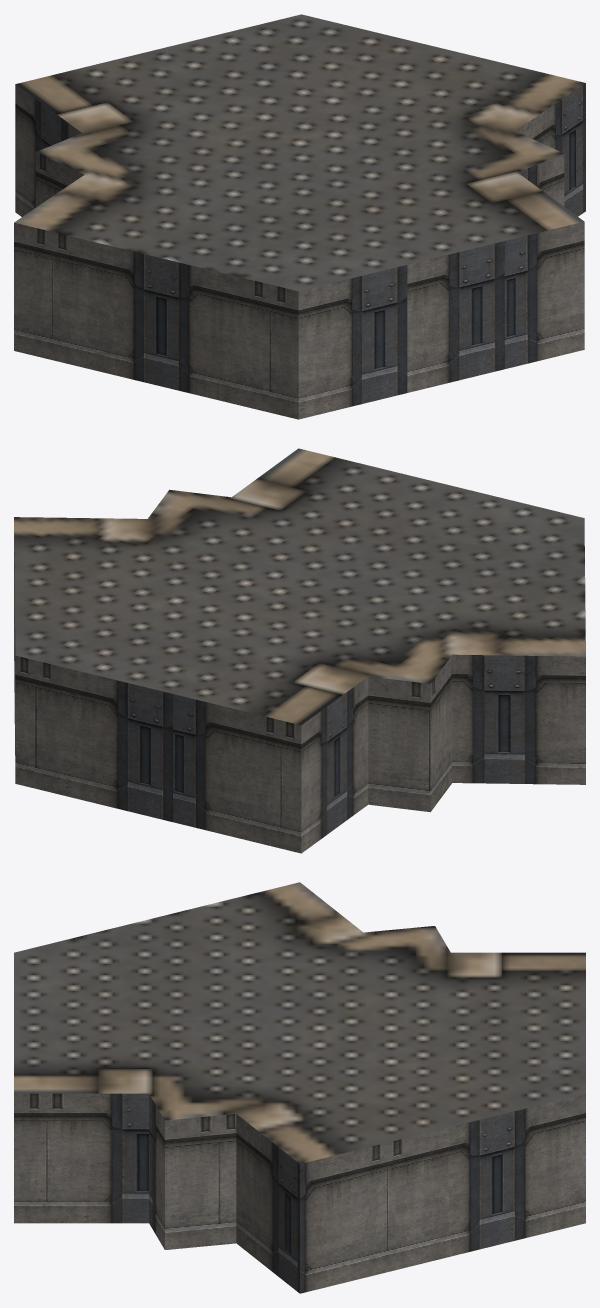
Rendered from building_heavy_a_27.glb.
3 views of the same model, one above another, from view 1: azimuth 30°, elevation 25°; view 2: azimuth 150°, elevation 25°; view 3: azimuth 270°, elevation 25° (orthographic).
Parts seen in each view (by area): view 1: buildings/saxarba/building_heavy/building_heavy_a_27; view 2: buildings/saxarba/building_heavy/building_heavy_a_27; view 3: buildings/saxarba/building_heavy/building_heavy_a_27.
Part boxes in pixels (box(x1,y1,x2,y2)): buildings/saxarba/building_heavy/building_heavy_a_27: box(14, 14, 585, 419); buildings/saxarba/building_heavy/building_heavy_a_27: box(14, 448, 585, 853); buildings/saxarba/building_heavy/building_heavy_a_27: box(14, 882, 585, 1293).
Bounding box in the file's own units: 84 × 18 × 72.
